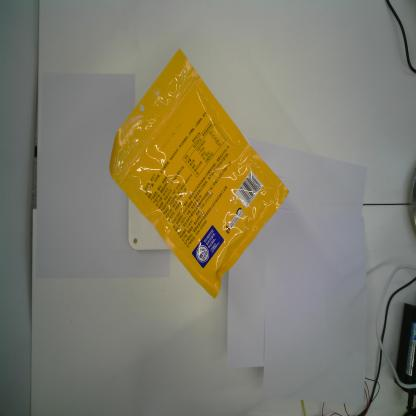Dried Fruit: (109, 48, 289, 301)
